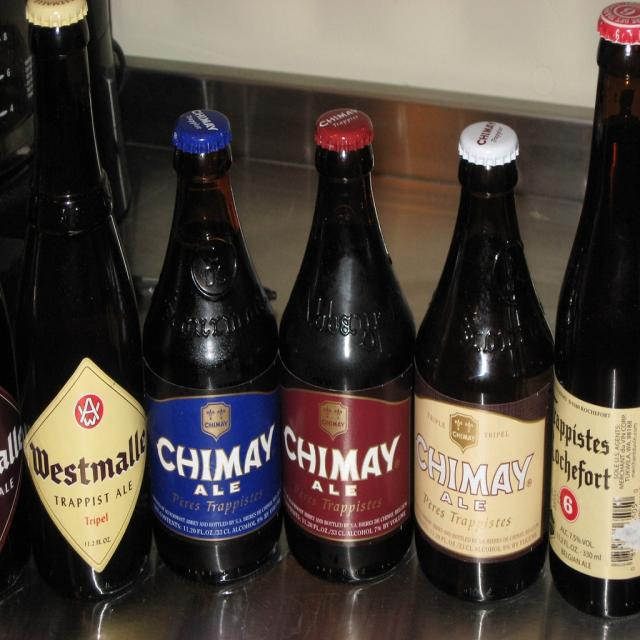chimay: (416, 395, 548, 557), (280, 388, 411, 545), (146, 393, 282, 540)
